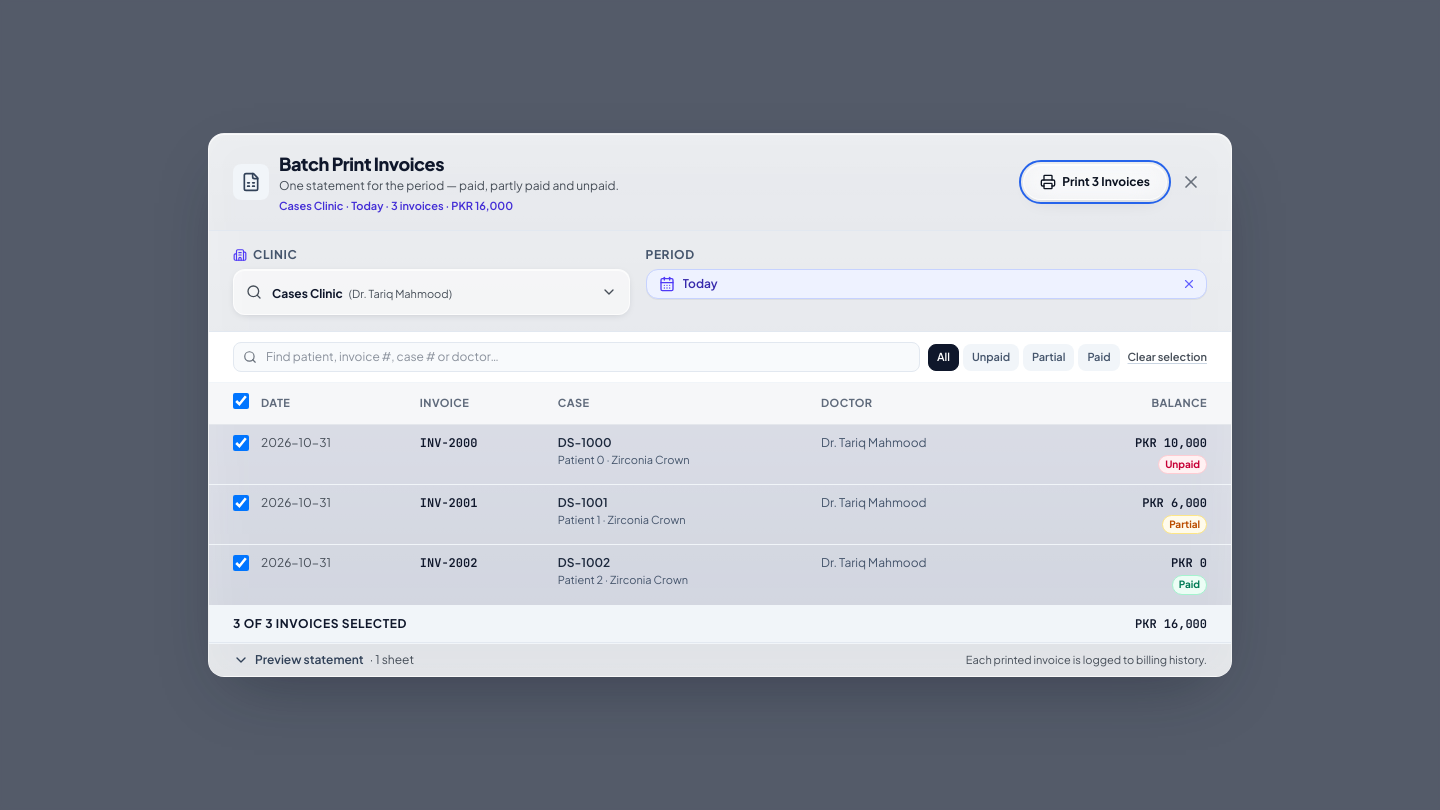
batch print picker › starts with the paper preview collapsed but keeps the sheets printable
Step 1. Click the button "Preview statement · 1 sheet" → (324,660), box [233,652,414,668]
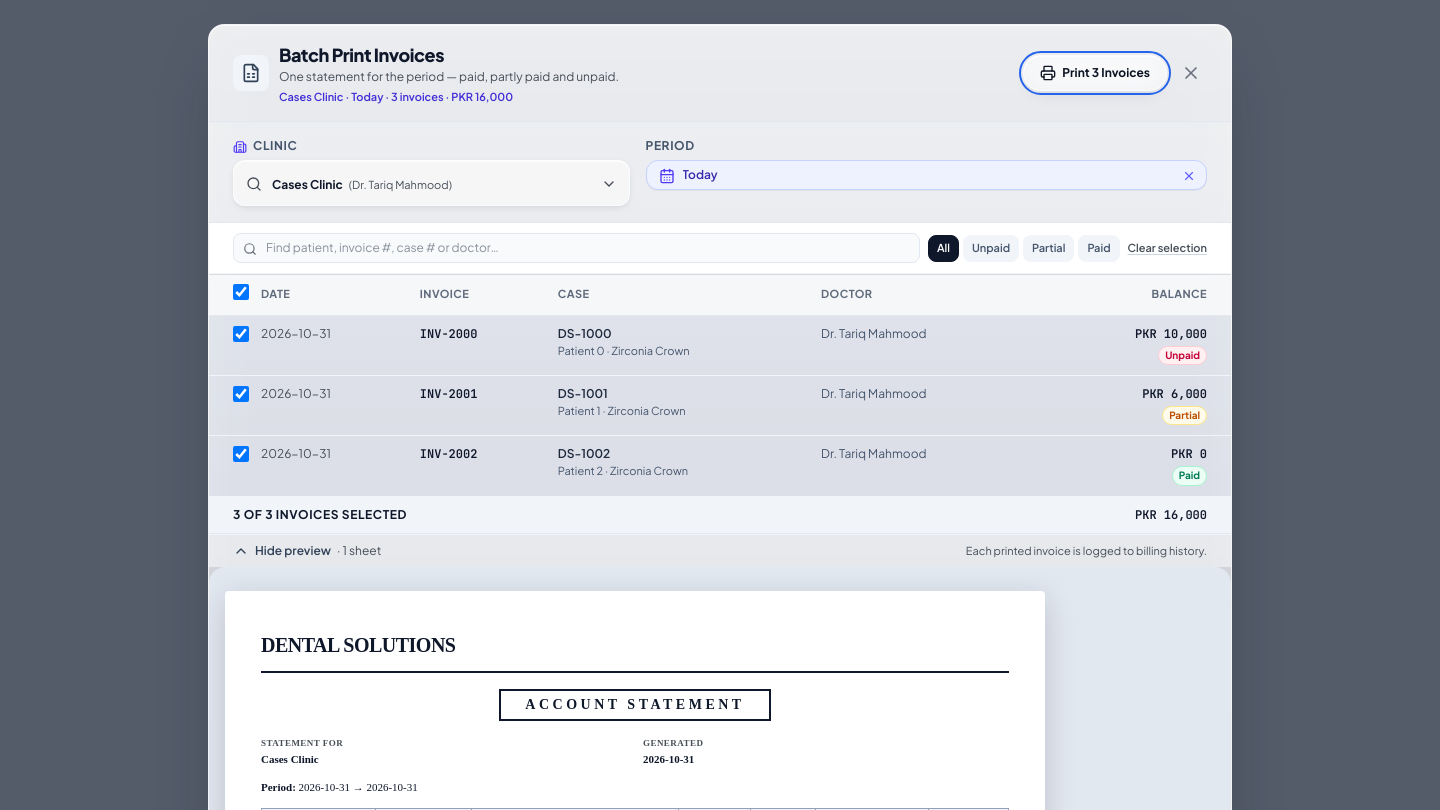
Now the button "Hide preview · 1 sheet" is shown, box [233,543,381,559]
